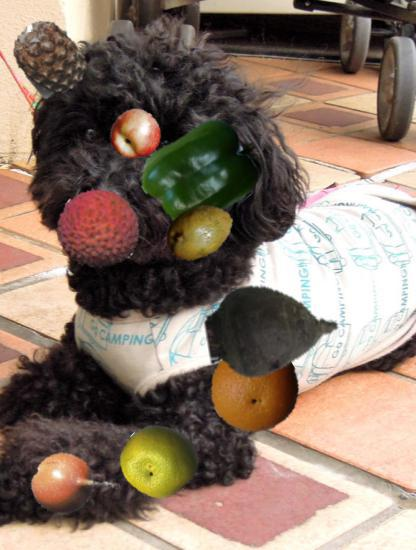Beetroot: (203, 258, 345, 400)
Granadilla: (30, 446, 116, 532)
Lychee: (57, 187, 141, 271)
Nectarine: (110, 109, 162, 161)
Orange: (210, 344, 301, 435)
Papaya: (165, 197, 235, 267)
Pepper: (144, 115, 261, 232)
Pineapple: (10, 19, 89, 98)
Pomelo: (121, 423, 198, 500)
